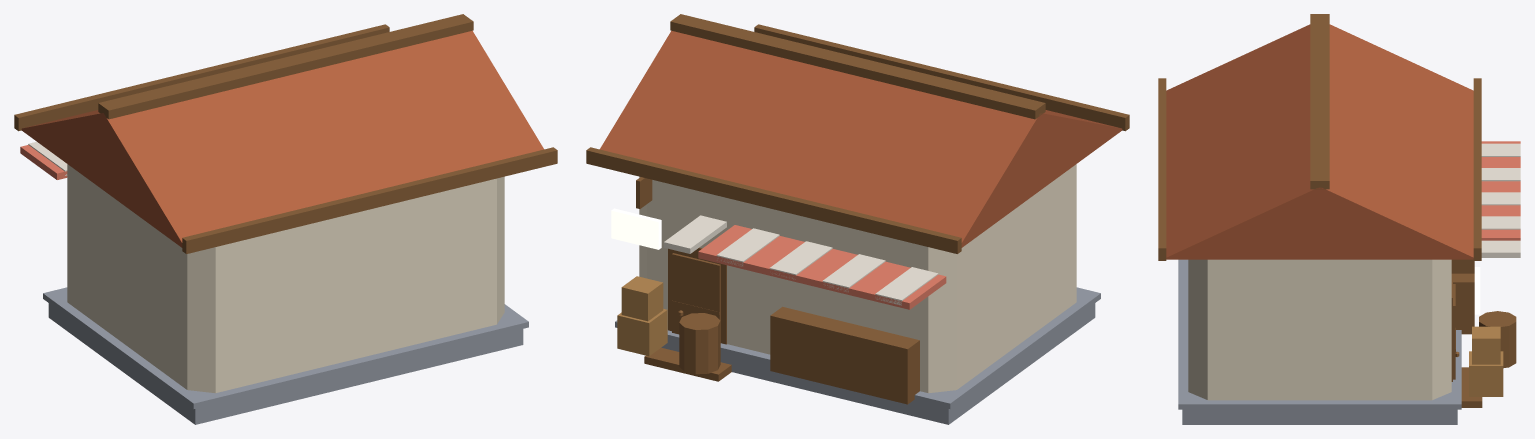
The model's file is xy_house_shop.glb.
3 renders of one model, left to right at view 1: azimuth 30°, elevation 25°; view 2: azimuth 150°, elevation 25°; view 3: azimuth 270°, elevation 25°, orthographic. The views are drawn at different scales.
Visible parts, largest first — view 1: House; view 2: House; view 3: House.
Boxes of the visible parts, box(x1,y1,x2,y2) form: House: box(14, 14, 557, 424); House: box(586, 14, 1129, 424); House: box(1158, 14, 1520, 424).
Size of the model in its own units: 7.02 by 4.86 by 6.32.
